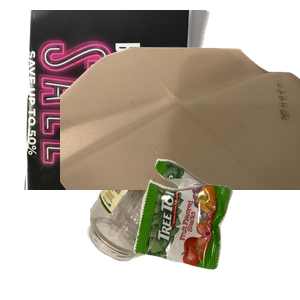glass: (85, 141, 275, 300)
paper: (22, 10, 225, 190)
plastic: (60, 44, 300, 224)
trash: (131, 156, 300, 300)
